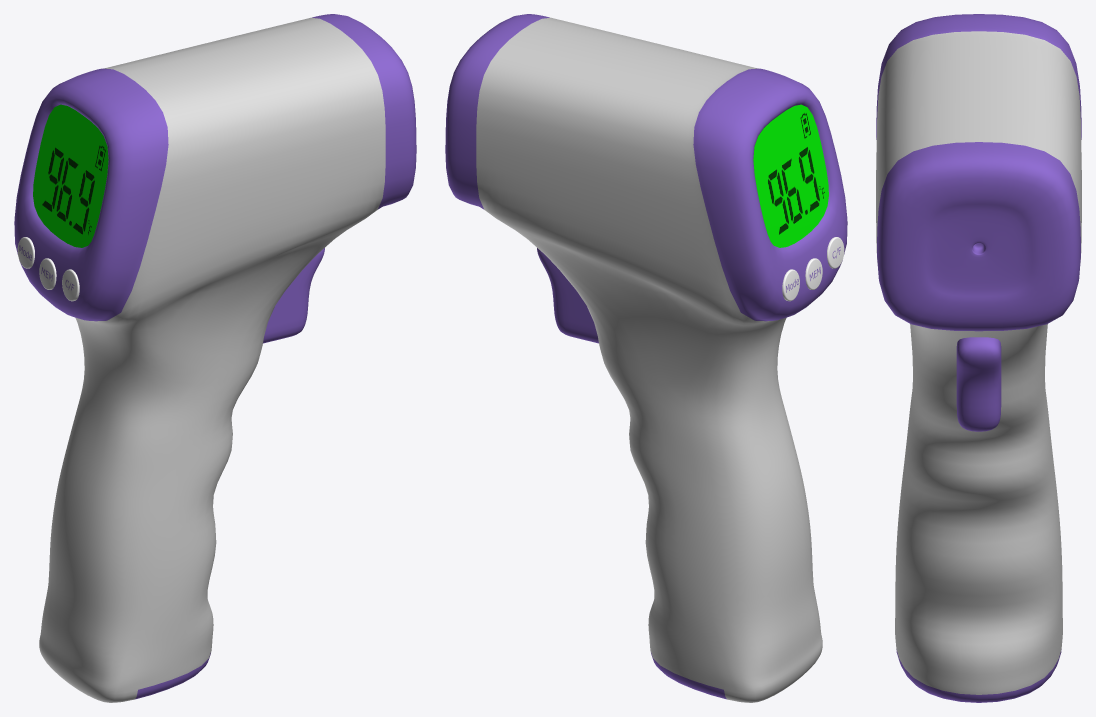
File: Thermometer.fbx
3 views of the same model, side by side, from view 1: azimuth 30°, elevation 25°; view 2: azimuth 150°, elevation 25°; view 3: azimuth 270°, elevation 25° (orthographic). The views are drawn at different scales.
Visible parts, largest first — view 1: Cube, Cube.002, Cube.001, Cylinder; view 2: Cube, Cube.002, Cube.001, Cylinder; view 3: Cube, Cube.001.
Part boxes in pixels (<box>): Cube: <box>14,14,416,702</box>; Cube.002: <box>33,104,108,247</box>; Cube.001: <box>263,248,324,343</box>; Cylinder: <box>17,237,79,301</box>; Cube: <box>445,14,847,702</box>; Cube.002: <box>753,104,828,247</box>; Cube.001: <box>537,248,598,343</box>; Cylinder: <box>782,237,844,301</box>; Cube: <box>876,14,1081,702</box>; Cube.001: <box>956,337,1001,431</box>.
Bounding box in the file's own units: 18.36 × 31.25 × 8.99.
